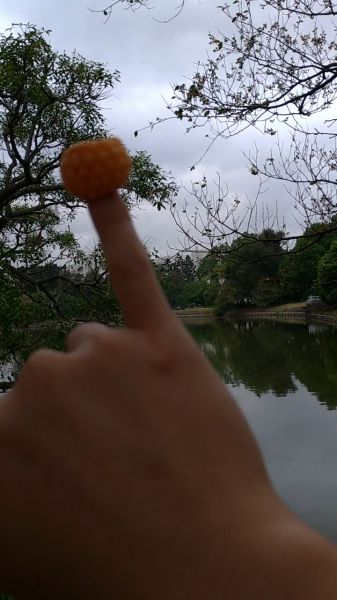eggs: (60, 137, 131, 199)
